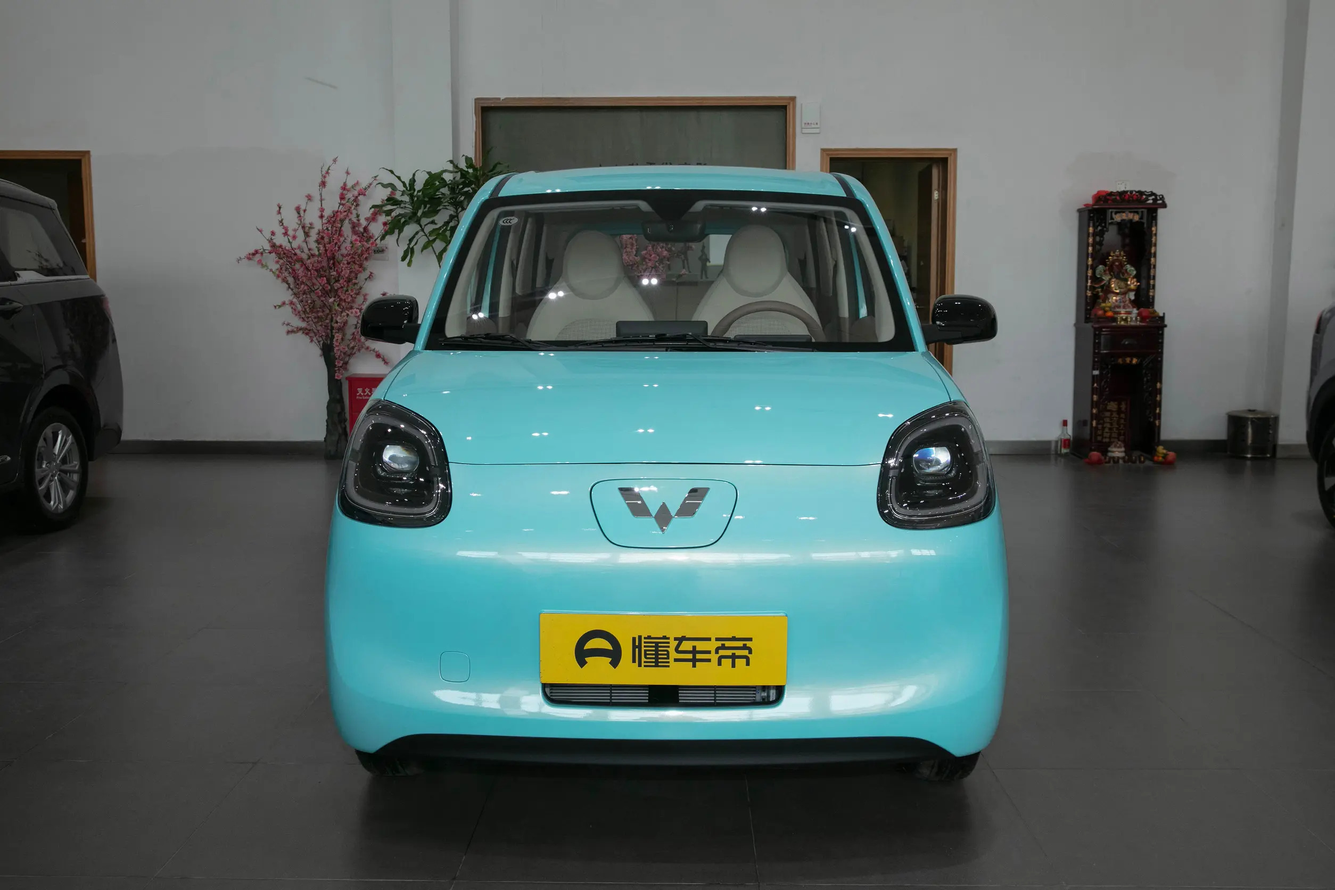SGMW: (618, 487, 710, 533)
